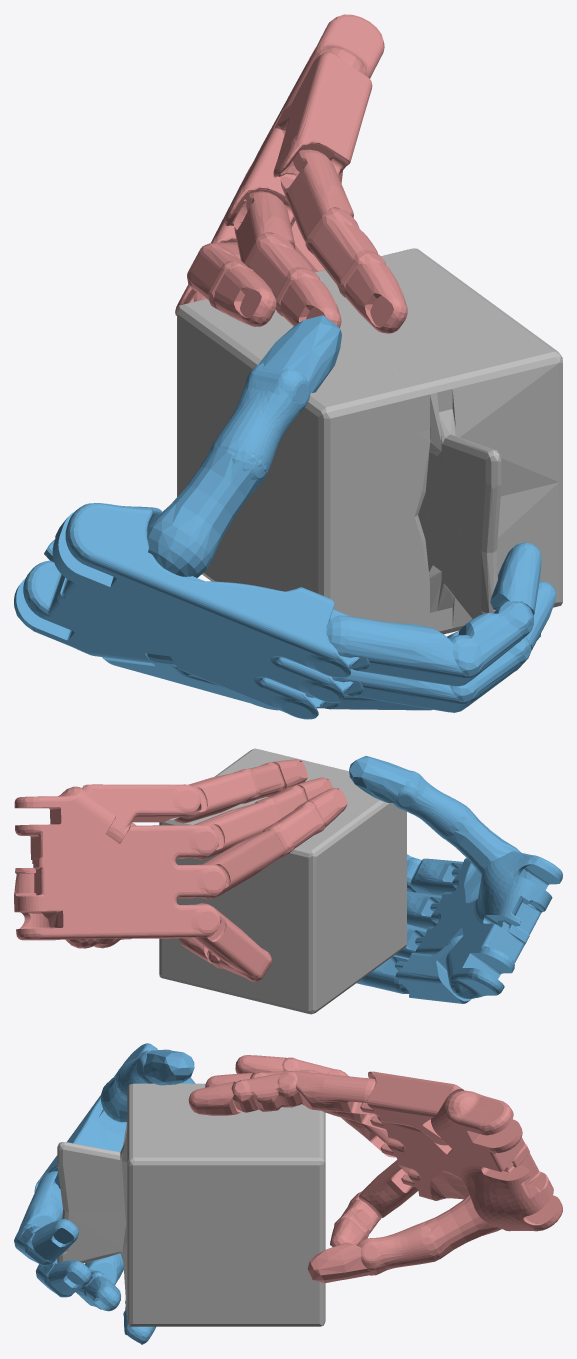
Rendered from TissueBox_mesh.glb.
3 renders of one model, top to bottom at view 1: azimuth 30°, elevation 25°; view 2: azimuth 150°, elevation 25°; view 3: azimuth 270°, elevation 25°, orthographic. The views are drawn at different scales.
Visible parts, largest first — view 1: geom_0, geom_1, geom_2; view 2: geom_2, geom_0, geom_1; view 3: geom_0, geom_2, geom_1.
Boxes of the visible parts, x1,y1,x2,y2 form: geom_0: (177, 248, 562, 634); geom_1: (14, 315, 556, 719); geom_2: (175, 14, 407, 333); geom_2: (14, 759, 347, 981); geom_0: (159, 748, 406, 1014); geom_1: (349, 756, 562, 1003); geom_0: (57, 1083, 325, 1326); geom_2: (188, 1055, 562, 1283); geom_1: (14, 1043, 195, 1344).
Size of the model in its own units: 0.2368 by 0.1686 by 0.2934.
